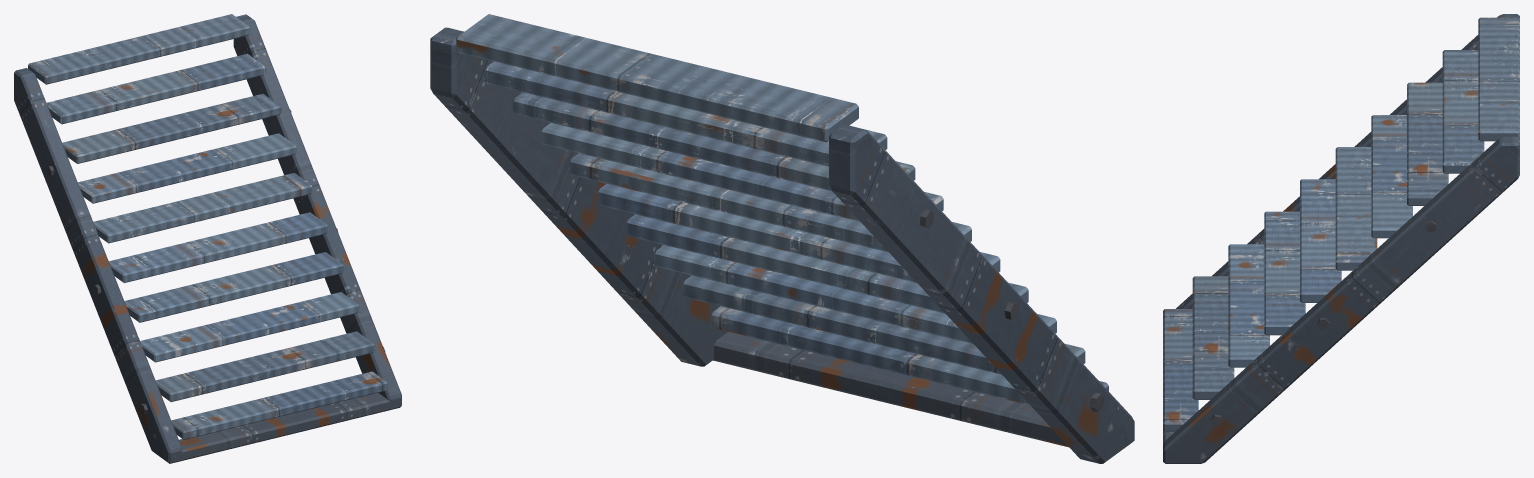
The model's file is merdiven.glb.
3 views of the same model, side by side, from view 1: azimuth 30°, elevation 25°; view 2: azimuth 150°, elevation 25°; view 3: azimuth 270°, elevation 25° (orthographic). The views are drawn at different scales.
Visible parts, largest first — view 1: merdiven; view 2: merdiven; view 3: merdiven.
Part boxes in pixels (bbox=[...]): merdiven: bbox=[14, 14, 401, 463]; merdiven: bbox=[430, 14, 1134, 463]; merdiven: bbox=[1163, 14, 1519, 463].
Size of the model in its own units: 2.67 by 3.02 by 3.
1 material, 1 textured.
